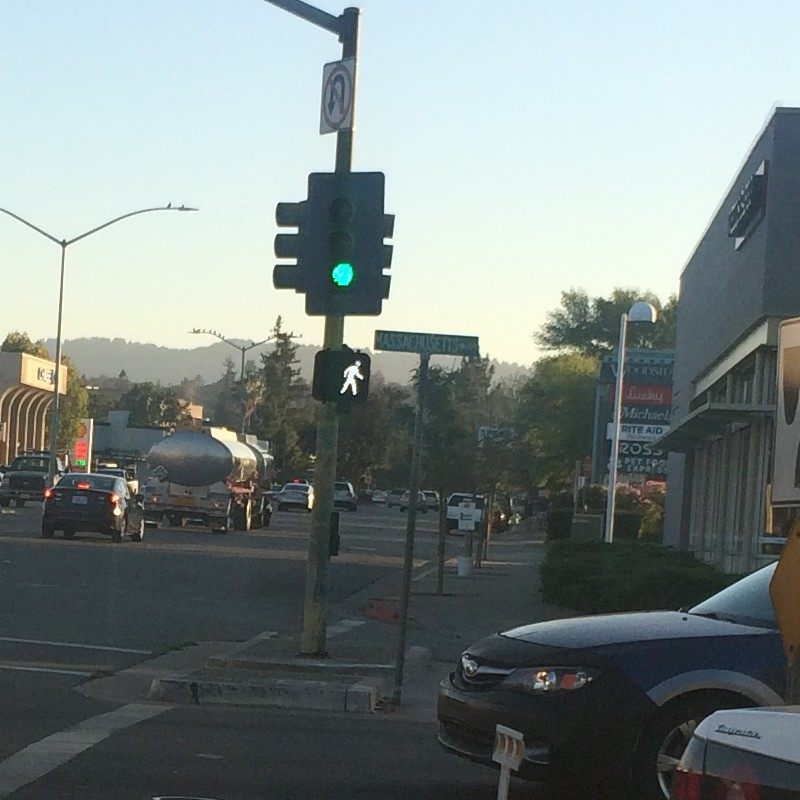go: (311, 348, 379, 407)
